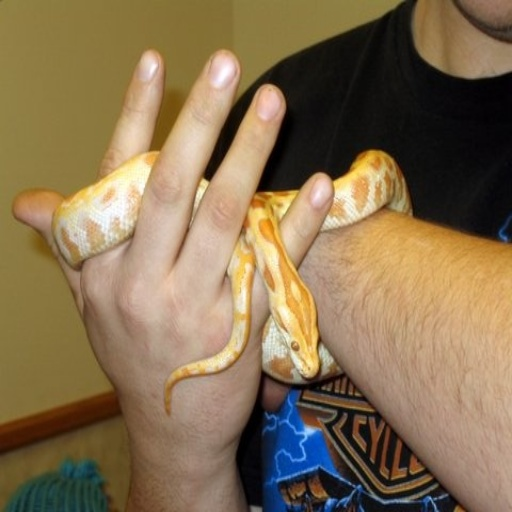hand: (3, 140, 268, 509), (259, 374, 290, 412)
